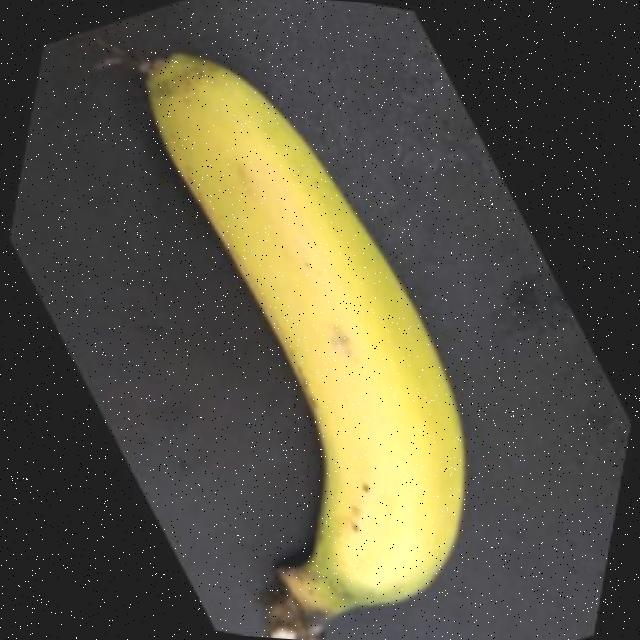Ripe: (82, 17, 507, 640)
